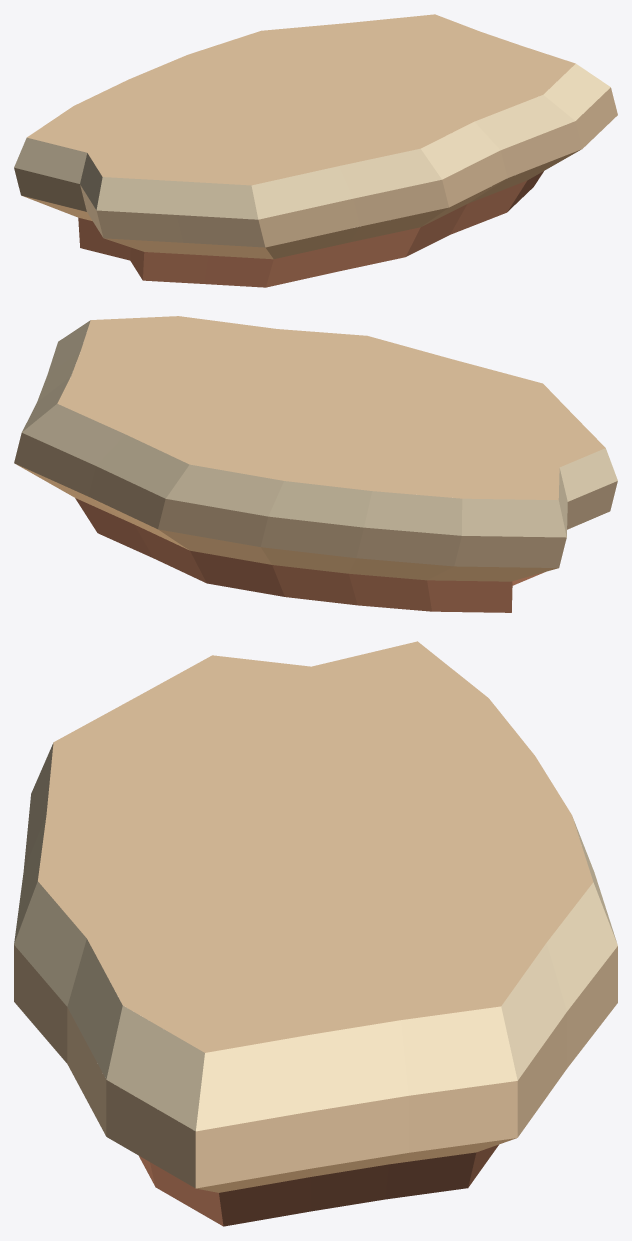
Rendered from desert-canyons-and-oases-cliff-rim-ledge-ce37856a__20913.glb.
3 views of the same model, one above another, from view 1: azimuth 30°, elevation 25°; view 2: azimuth 150°, elevation 25°; view 3: azimuth 270°, elevation 25° (orthographic). The views are drawn at different scales.
Visible parts, largest first — view 1: cliff-rim-ledge; view 2: cliff-rim-ledge; view 3: cliff-rim-ledge.
Boxes of the visible parts, box(x1,y1,x2,y2) form: cliff-rim-ledge: box(14, 14, 617, 287); cliff-rim-ledge: box(14, 316, 617, 612); cliff-rim-ledge: box(14, 641, 617, 1226).
Size of the model in its own units: 5.23 by 1.1 by 2.94.
